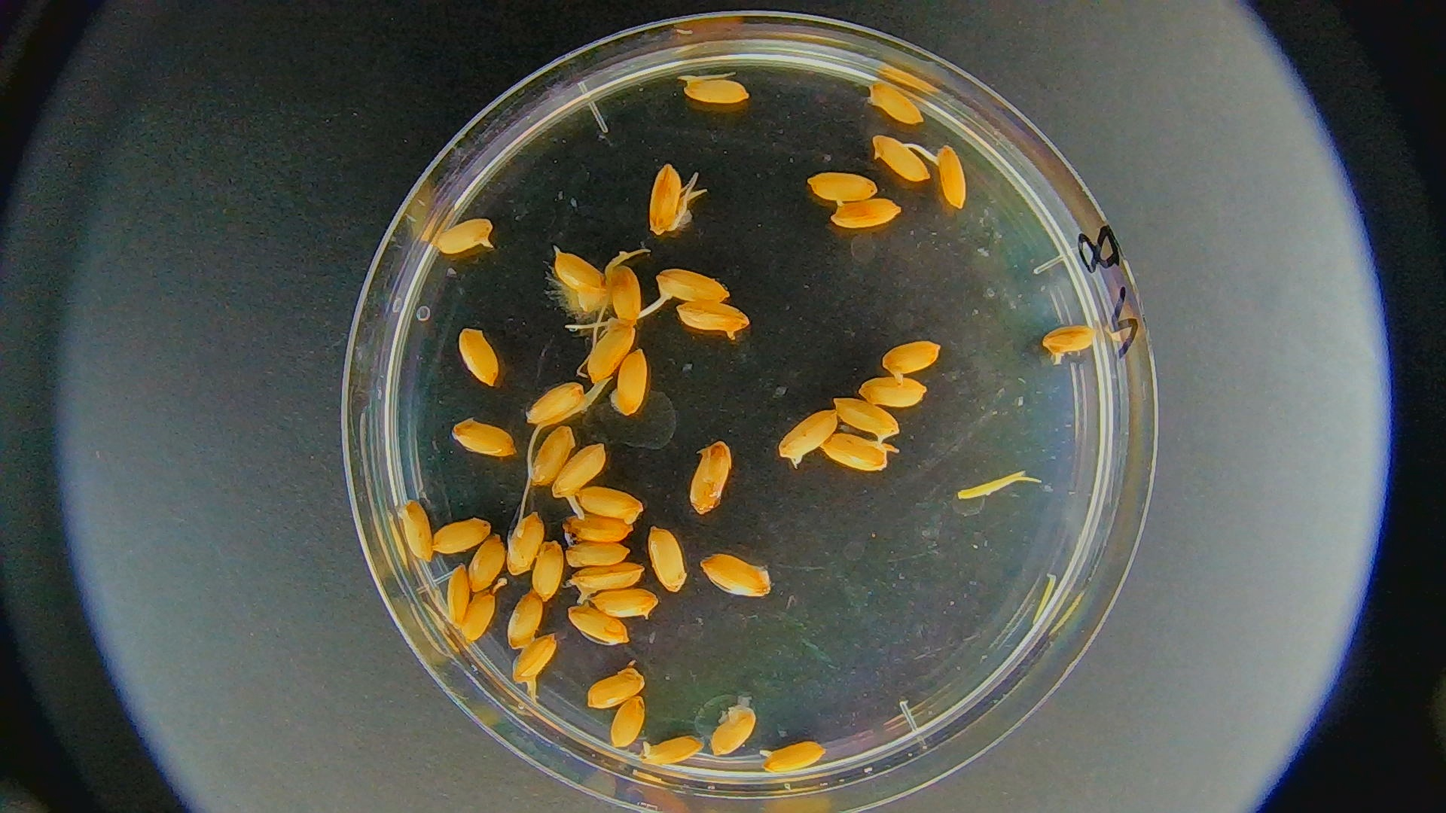no: (777, 409, 839, 468), (699, 550, 773, 598), (830, 394, 899, 445), (687, 440, 731, 513), (523, 381, 593, 426), (645, 524, 691, 592), (677, 300, 751, 342), (820, 431, 892, 473), (872, 131, 932, 181), (396, 495, 438, 565), (832, 193, 905, 233), (864, 78, 926, 125), (450, 416, 519, 458), (883, 339, 944, 384), (585, 583, 658, 620), (455, 327, 499, 388), (577, 486, 644, 526), (586, 667, 647, 710), (534, 426, 576, 487), (569, 604, 630, 646), (504, 513, 544, 577), (560, 512, 636, 545), (529, 538, 565, 601), (612, 349, 645, 417), (711, 705, 755, 756), (431, 516, 491, 553), (808, 172, 879, 203), (859, 376, 930, 407), (469, 532, 505, 592), (508, 588, 544, 648), (460, 587, 499, 642), (609, 694, 646, 748), (642, 735, 707, 763), (566, 540, 629, 568), (444, 563, 470, 628)
yes: (554, 440, 606, 516), (650, 163, 701, 234), (563, 562, 646, 603), (657, 265, 730, 311), (526, 379, 598, 424), (547, 242, 609, 294), (512, 631, 557, 697), (587, 320, 635, 380), (605, 245, 642, 321), (679, 70, 752, 107), (932, 144, 972, 211), (758, 739, 828, 773), (435, 217, 495, 256), (1037, 322, 1100, 356)
